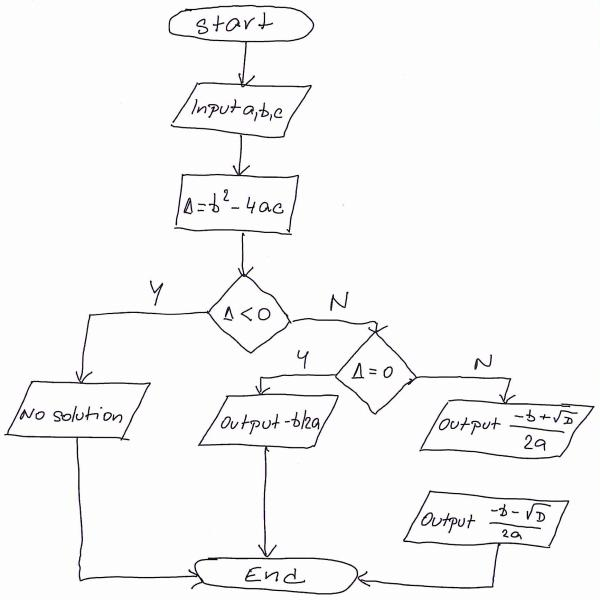arrow: (67, 300, 211, 384), (360, 546, 515, 588), (417, 363, 516, 401), (250, 366, 340, 399), (292, 311, 393, 335), (259, 444, 280, 556), (233, 44, 255, 86), (234, 234, 257, 273), (230, 137, 251, 175)
data: (416, 398, 594, 457), (401, 485, 568, 544), (9, 379, 150, 440), (198, 393, 338, 447)
decision: (205, 270, 290, 357)
process: (178, 172, 297, 232)
terminator: (194, 555, 357, 594), (164, 9, 316, 48)
text: (439, 412, 576, 455), (422, 506, 558, 542), (184, 190, 290, 219), (192, 94, 284, 127), (224, 409, 319, 436), (28, 402, 130, 426), (190, 12, 280, 36), (245, 561, 305, 586), (219, 297, 274, 322), (352, 360, 392, 386), (325, 286, 353, 317), (143, 273, 169, 304)
